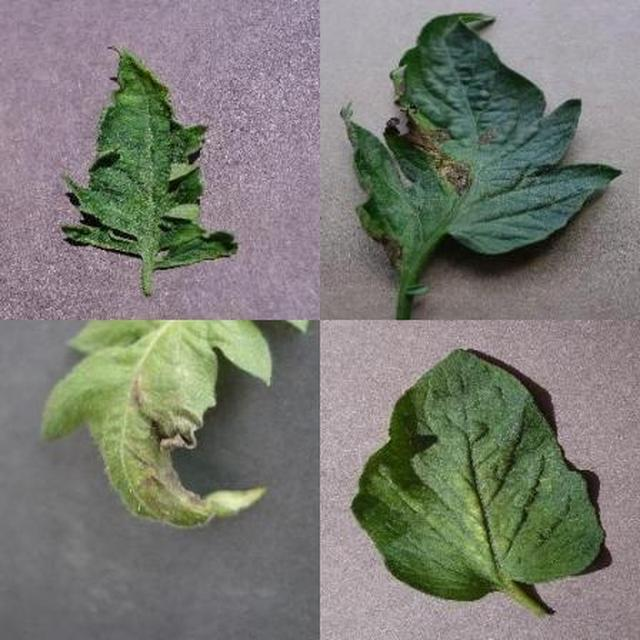Mosaic Virus Leaf: (214, 197, 640, 640)
